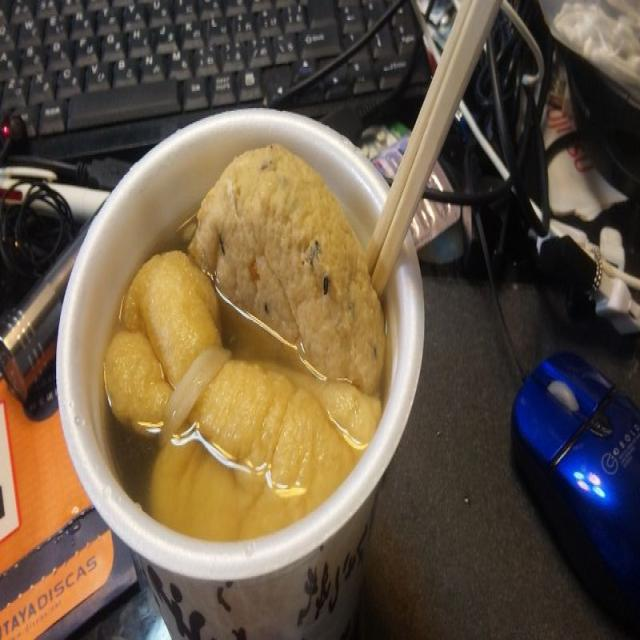汤锅炖物: (45, 99, 433, 640)
